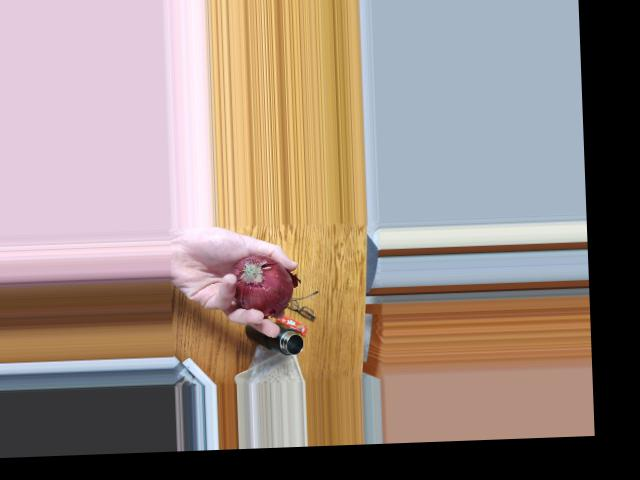onion: (230, 254, 292, 310)
